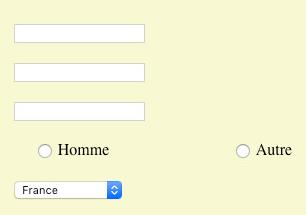field: (11, 61, 148, 82), (11, 23, 146, 44), (12, 101, 147, 122), (13, 179, 124, 201)
radio: (235, 142, 251, 159), (37, 142, 52, 159)
radio_with_label: (33, 140, 110, 161), (231, 139, 292, 160)
